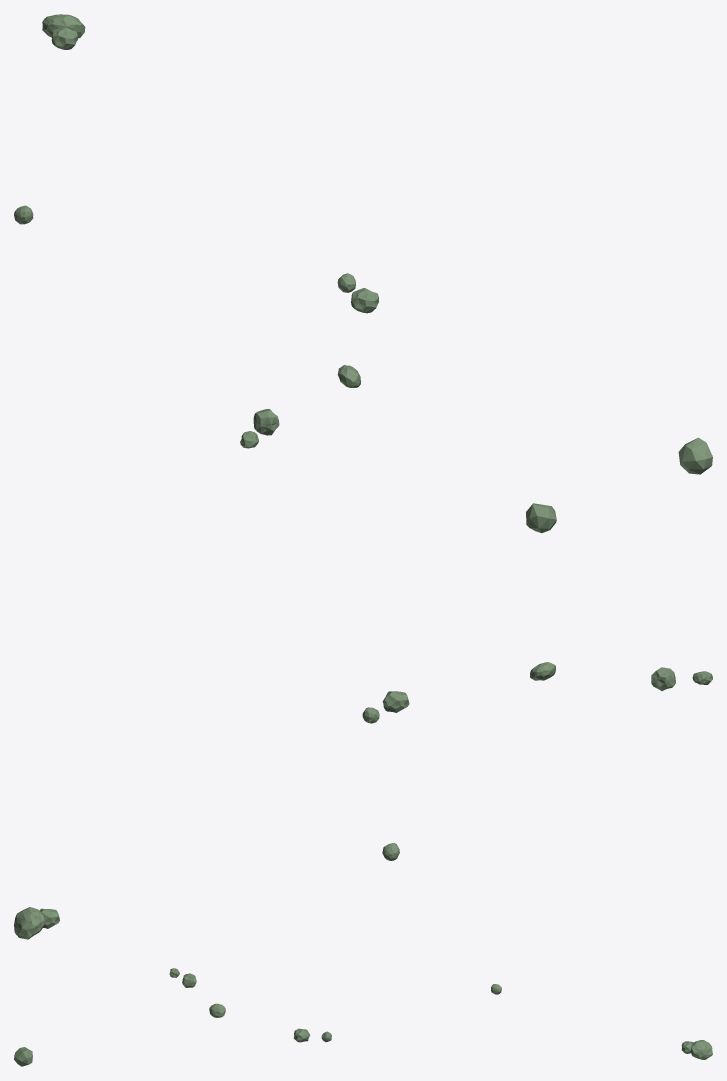
The model's file is bushes.fbx.
3 views of the same model, one above another, from view 1: azimuth 30°, elevation 25°; view 2: azimuth 150°, elevation 25°; view 3: azimuth 270°, elevation 25° (orthographic). The views are drawn at different scales.
Parts seen in each view (by area): view 1: bushB; view 2: bushG1, bushB; view 3: bushG1, bushB, bushG, bushC.
Part boxes in pixels (left/top/right/bottom): bushB: left=678, top=437, right=712, bottom=474; bushG1: left=14, top=907, right=44, bottom=939; bushB: left=526, top=503, right=556, bottom=533; bushG1: left=691, top=1040, right=712, bottom=1059; bushB: left=14, top=1047, right=32, bottom=1066; bushG: left=209, top=1003, right=225, bottom=1017; bushC: left=294, top=1028, right=310, bottom=1042.
Size of the model in its own units: 23.38 by 2.19 by 74.54.
